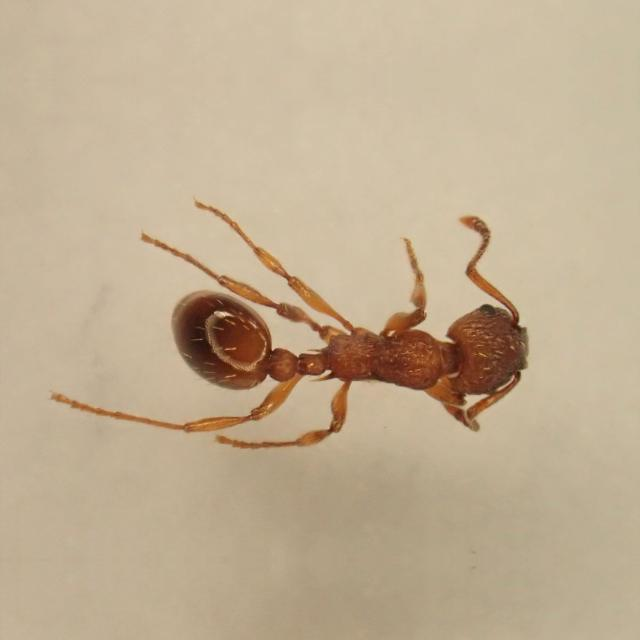Myrmica: (108, 182, 564, 462)
